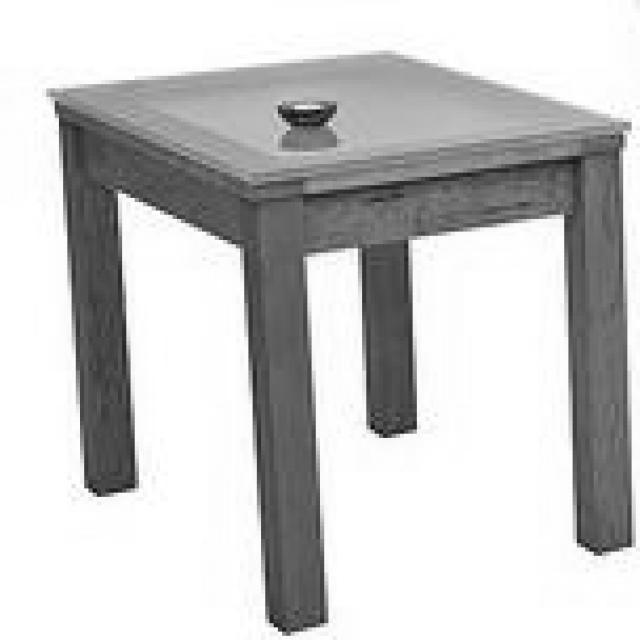table: (44, 46, 636, 633)
